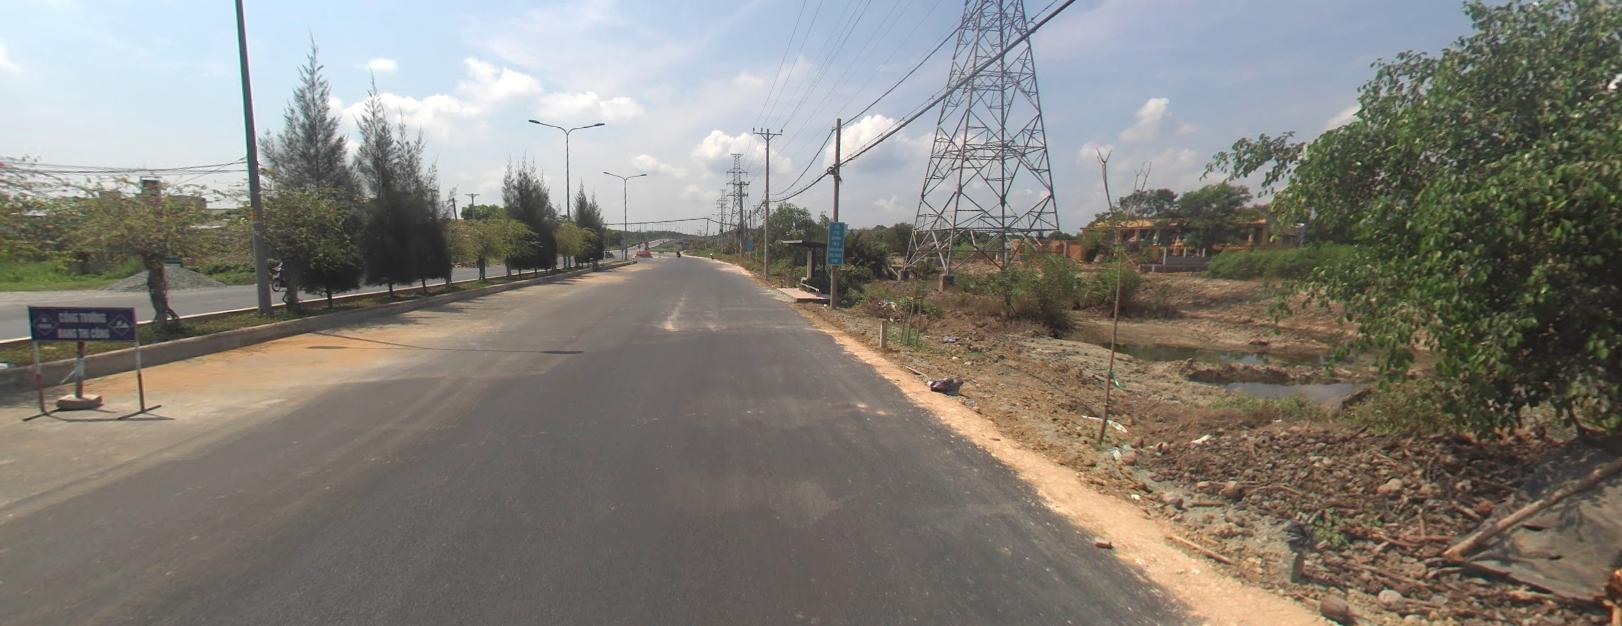Cam nguoc chieu: (644, 240, 648, 243)
Hieu lenh: (644, 245, 648, 248)
Nguy hiem: (754, 241, 759, 246), (732, 241, 738, 245)
